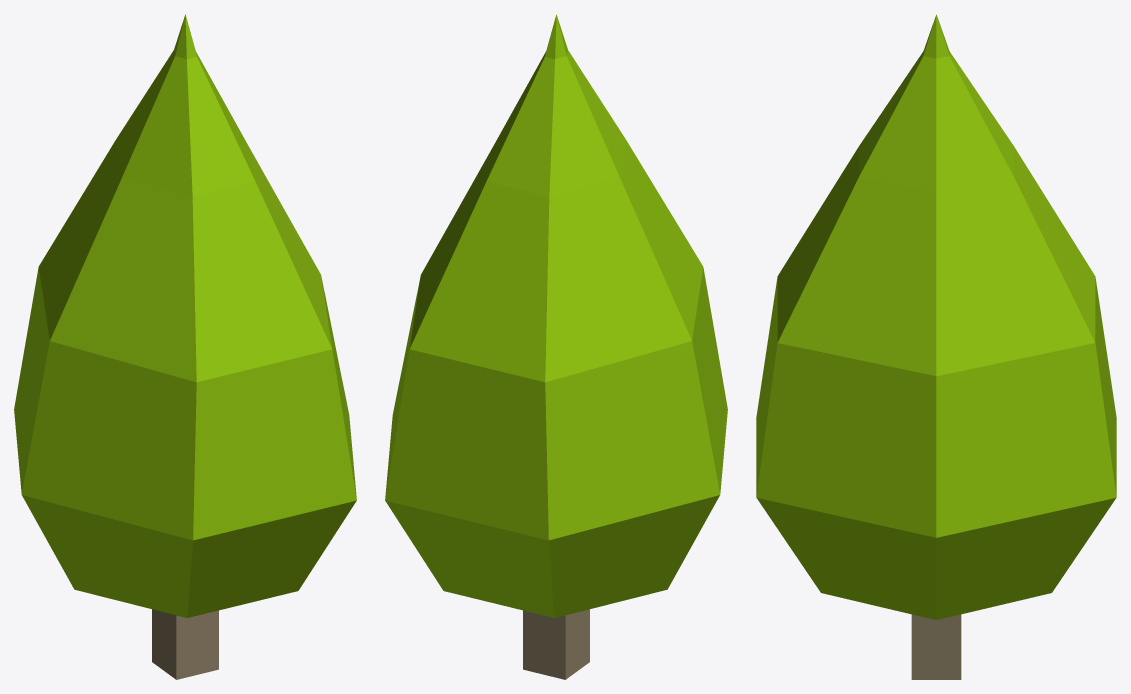
The model's file is tree_cone_6.fbx.
3 views of the same model, side by side, from view 1: azimuth 30°, elevation 25°; view 2: azimuth 150°, elevation 25°; view 3: azimuth 270°, elevation 25° (orthographic).
Parts seen in each view (by area): view 1: tree_cone_6; view 2: tree_cone_6; view 3: tree_cone_6.
Part boxes in pixels (x1,y1,x2,y2): tree_cone_6: (14,14,356,679); tree_cone_6: (385,14,727,679); tree_cone_6: (756,14,1116,679).
Bounding box in the file's own units: 94.54 × 180 × 89.51.
